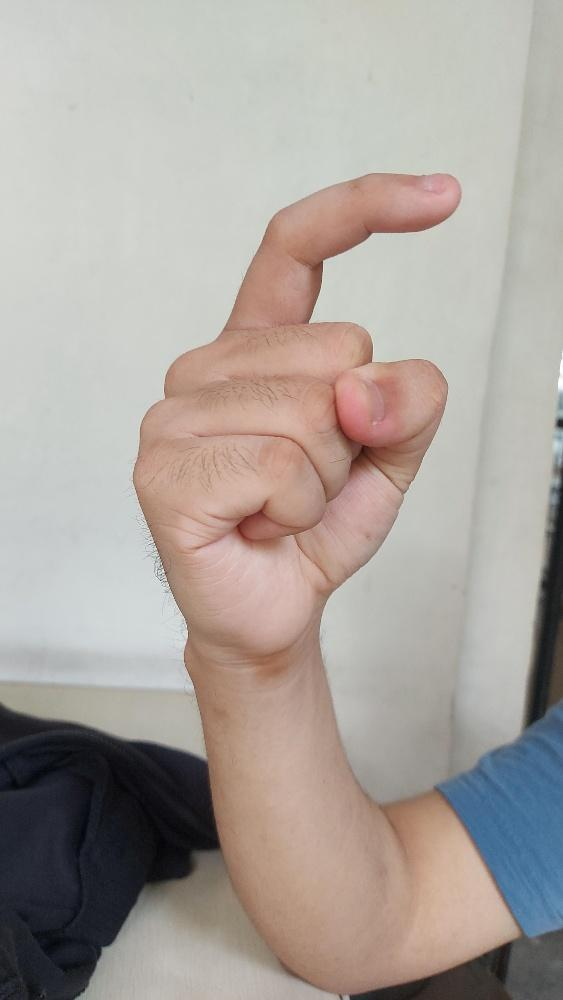x: (130, 171, 462, 652)
